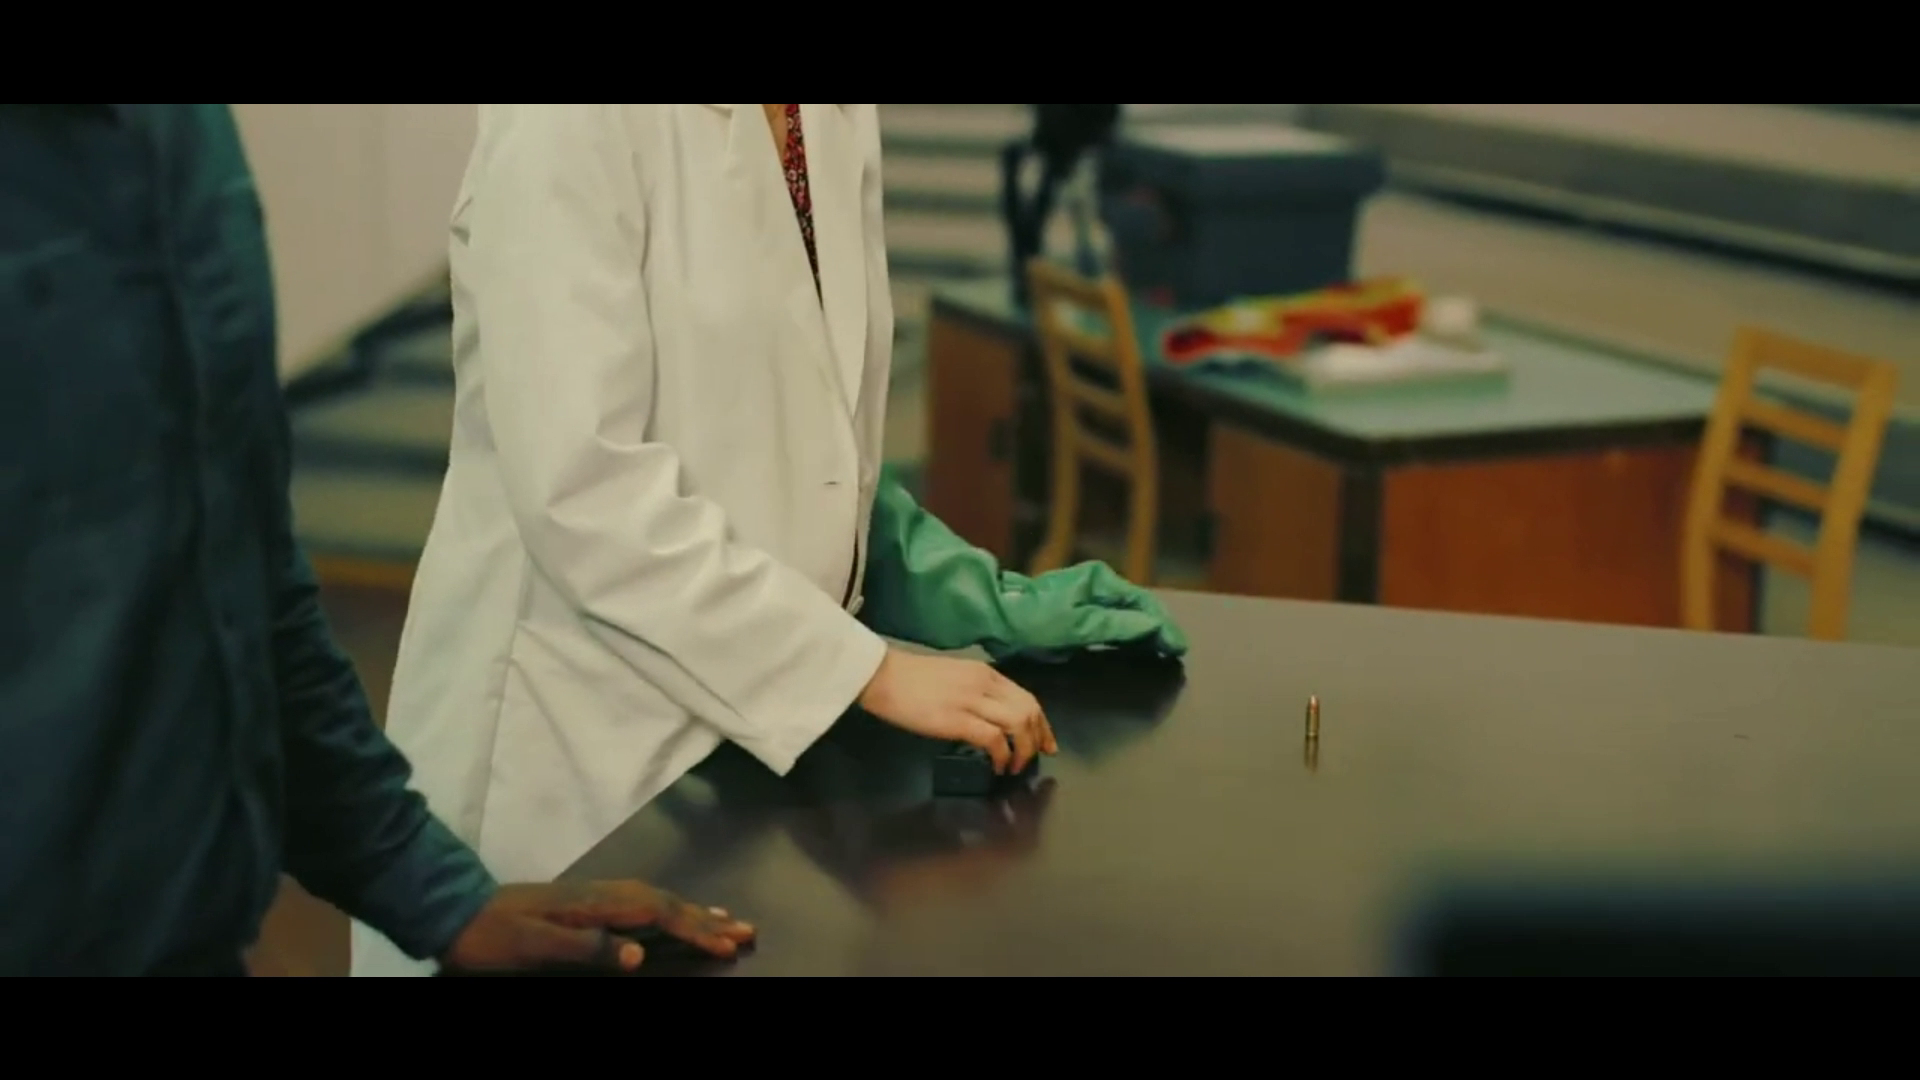Bullet: (1302, 692, 1319, 740)
